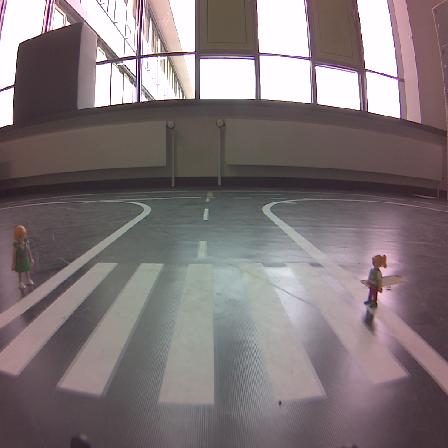CHILD: (364, 255, 386, 307)
PERSON: (11, 225, 33, 288)
